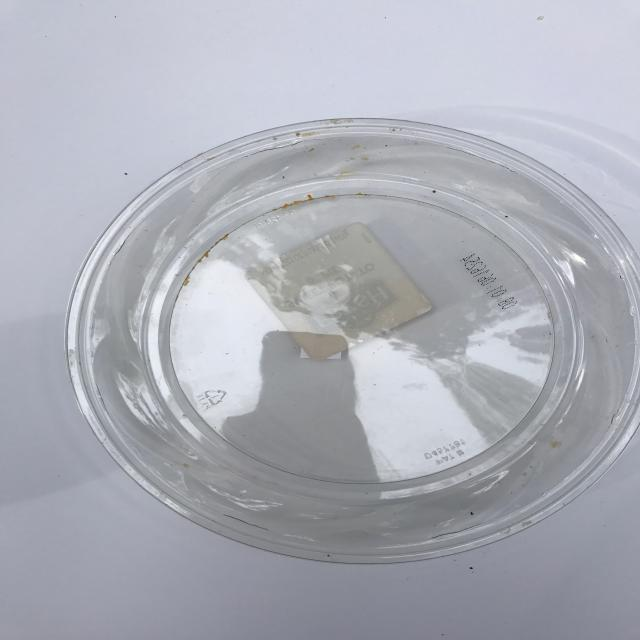plastic: (60, 116, 640, 566)
